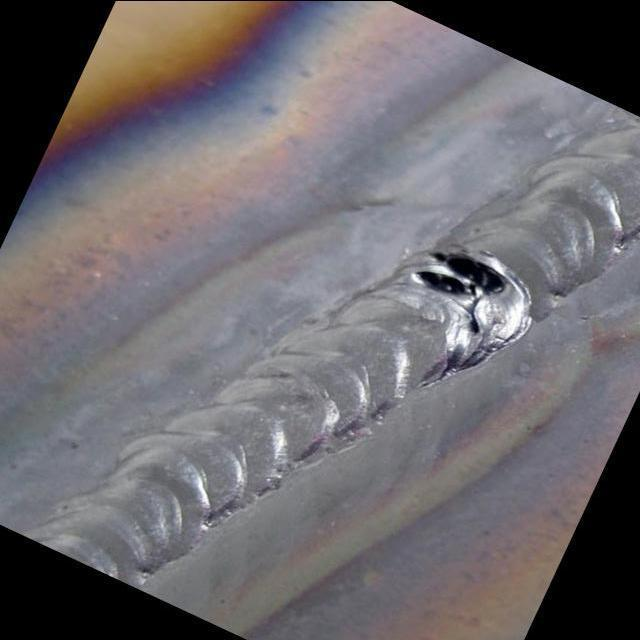defect: (403, 245, 516, 311)
